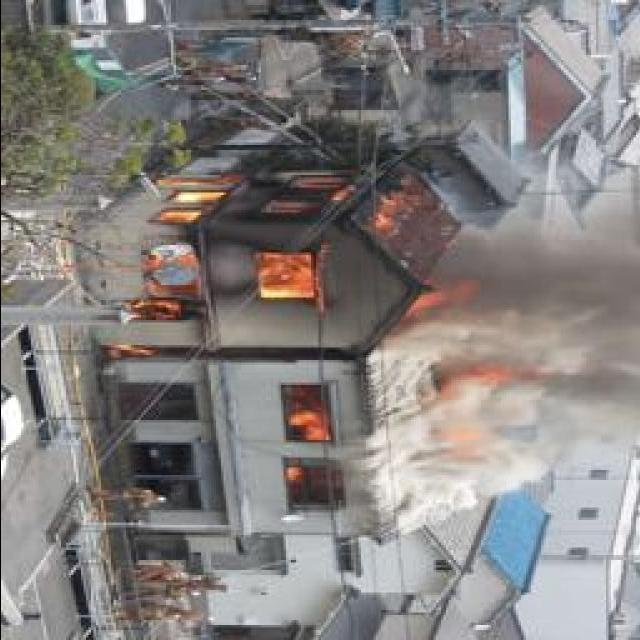Fire: (129, 174, 440, 324), (426, 352, 500, 464), (280, 382, 332, 504)
